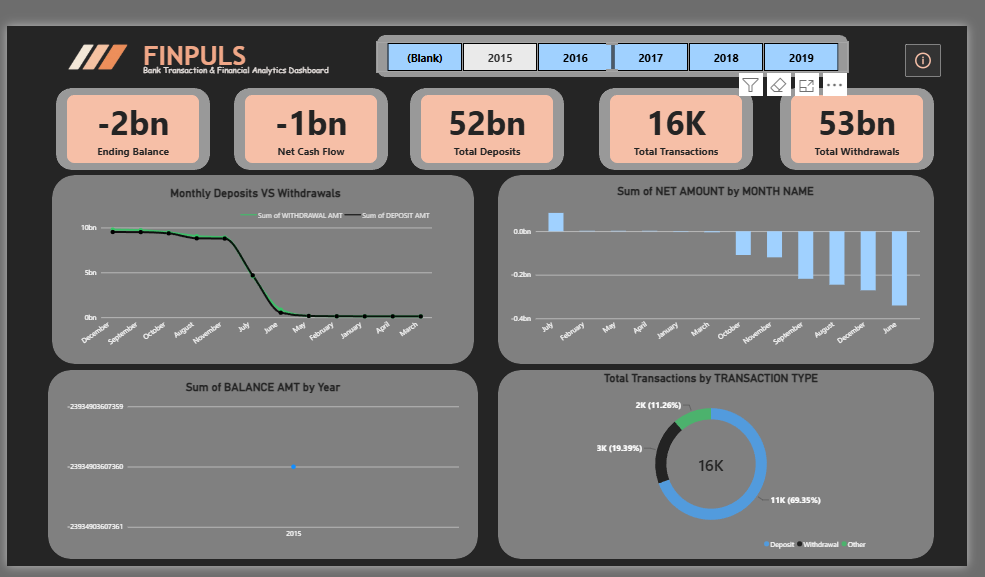

This screenshot's page, from the dashboard's own definition file:
{"tool":"powerbi","page":{"name":"Page 1","canvas":[1920,1080],"ordinal":0},"visuals":[{"type":"shape","box":[740,18,942,84],"z":0},{"type":"shape","box":[982,298,872,378],"z":1000},{"type":"shape","box":[82,688,860,378],"z":2000},{"type":"shape","box":[90,298,844,378],"z":3000},{"type":"shape","box":[982,688,872,378],"z":4000},{"type":"shape","box":[1546,124,308,164],"z":5000},{"type":"shape","box":[1184,124,308,164],"z":6000},{"type":"shape","box":[806,124,308,164],"z":7000},{"type":"shape","box":[454,124,308,164],"z":8000},{"type":"shape","box":[98,124,308,164],"z":9000},{"type":"textbox","box":[272,28,214,96],"z":10000},{"type":"textbox","box":[272,76,762.9,51.4],"z":11000},{"type":"image","box":[58,0,246,124],"z":12000},{"type":"cardVisual","fields":{"Data":["FinPulse_PowerBI.Ending Balance"]},"box":[120,138,264,136],"z":13000},{"type":"cardVisual","fields":{"Data":["FinPulse_PowerBI.Net Cash Flow"]},"box":[476,138,264,136],"z":14000},{"type":"cardVisual","fields":{"Data":["FinPulse_PowerBI.Total Deposits"]},"box":[828,138,264,136],"z":15000},{"type":"cardVisual","fields":{"Data":["FinPulse_PowerBI.Total Transactions"]},"box":[1206,138,264,136],"z":16000},{"type":"cardVisual","fields":{"Data":["FinPulse_PowerBI.Total Withdrawals"]},"box":[1568,138,264,136],"z":17000},{"type":"lineChart","title":"Monthly Deposits VS Withdrawals","fields":{"Category":["FinPulse_PowerBI.MONTH NAME"],"Y":["Sum(FinPulse_PowerBI.WITHDRAWAL AMT)","Sum(FinPulse_PowerBI.DEPOSIT AMT)"]},"box":[144,320,706,336],"z":18000},{"type":"clusteredColumnChart","fields":{"Category":["FinPulse_PowerBI.MONTH NAME"],"Y":["Sum(FinPulse_PowerBI.NET AMOUNT)"]},"box":[1008,316,818,340],"z":19000},{"type":"lineChart","fields":{"Category":["FinPulse_PowerBI.DATE.Variation.Date Hierarchy.Year","FinPulse_PowerBI.DATE.Variation.Date Hierarchy.Quarter","FinPulse_PowerBI.DATE.Variation.Date Hierarchy.Month","FinPulse_PowerBI.DATE.Variation.Date Hierarchy.Day"],"Y":["Sum(FinPulse_PowerBI.BALANCE AMT)"]},"box":[120,708,784,322],"z":20000},{"type":"donutChart","fields":{"Category":["FinPulse_PowerBI.TRANSACTION TYPE"],"Y":["FinPulse_PowerBI.Total Transactions"]},"box":[1094,690,628,360],"z":21000},{"type":"slicer","fields":{"Values":["FinPulse_PowerBI.YEAR"]},"box":[740,32,942,60],"z":22000},{"type":"actionButton","box":[1796,36,72,66],"z":23000}]}

Visuals, with their boxes on the page's 1920x1080 design canvas (x1, y1, x2, y2). These are canvas units, not pixel positions in the 985x577 screenshot, which may show the page scaled, cropped or inside an application window:
shape: l=740, t=18, r=1682, b=102
shape: l=982, t=298, r=1854, b=676
shape: l=82, t=688, r=942, b=1066
shape: l=90, t=298, r=934, b=676
shape: l=982, t=688, r=1854, b=1066
shape: l=1546, t=124, r=1854, b=288
shape: l=1184, t=124, r=1492, b=288
shape: l=806, t=124, r=1114, b=288
shape: l=454, t=124, r=762, b=288
shape: l=98, t=124, r=406, b=288
textbox: l=272, t=28, r=486, b=124
textbox: l=272, t=76, r=1035, b=127
image: l=58, t=0, r=304, b=124
cardVisual - FinPulse_PowerBI.Ending Balance: l=120, t=138, r=384, b=274
cardVisual - FinPulse_PowerBI.Net Cash Flow: l=476, t=138, r=740, b=274
cardVisual - FinPulse_PowerBI.Total Deposits: l=828, t=138, r=1092, b=274
cardVisual - FinPulse_PowerBI.Total Transactions: l=1206, t=138, r=1470, b=274
cardVisual - FinPulse_PowerBI.Total Withdrawals: l=1568, t=138, r=1832, b=274
"Monthly Deposits VS Withdrawals" lineChart: l=144, t=320, r=850, b=656
clusteredColumnChart - FinPulse_PowerBI.MONTH NAME x Sum(FinPulse_PowerBI.NET AMOUNT): l=1008, t=316, r=1826, b=656
lineChart - FinPulse_PowerBI.DATE.Variation.Date Hierarchy.Year x FinPulse_PowerBI.DATE.Variation.Date Hierarchy.Quarter: l=120, t=708, r=904, b=1030
donutChart - FinPulse_PowerBI.TRANSACTION TYPE x FinPulse_PowerBI.Total Transactions: l=1094, t=690, r=1722, b=1050
slicer - FinPulse_PowerBI.YEAR: l=740, t=32, r=1682, b=92
actionButton: l=1796, t=36, r=1868, b=102
